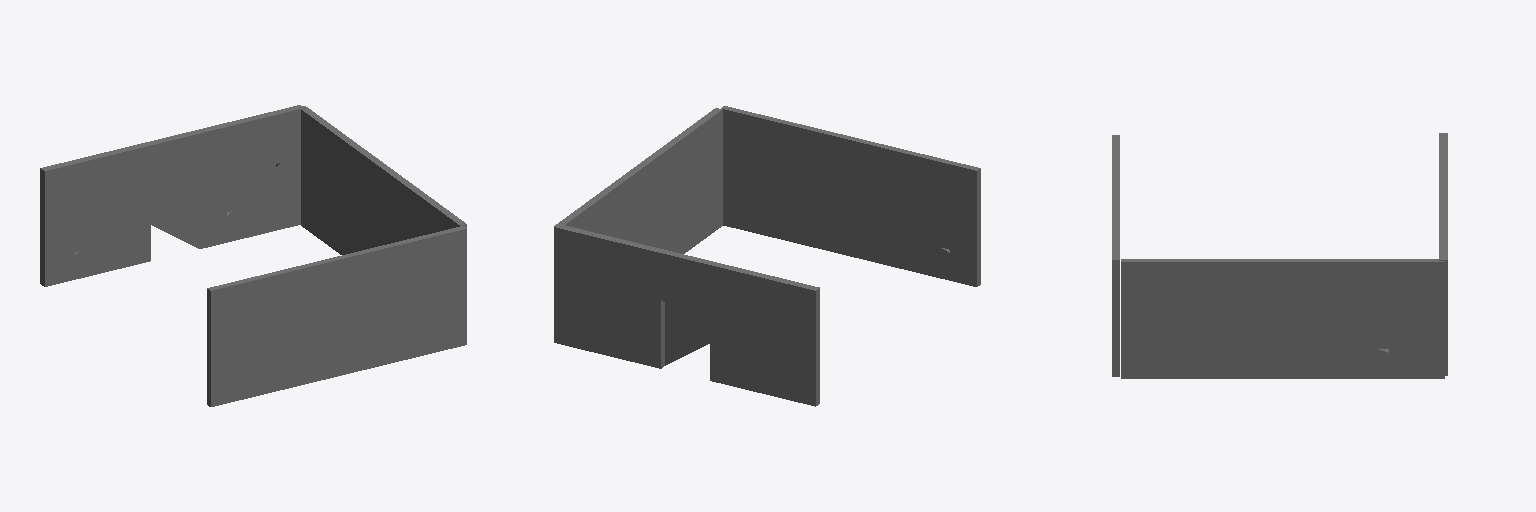
The model's file is paredes.obj.
3 renders of one model, left to right at view 1: azimuth 30°, elevation 25°; view 2: azimuth 150°, elevation 25°; view 3: azimuth 270°, elevation 25°, orthographic.
Visible parts, largest first — view 1: cafeteria:pCube53; view 2: cafeteria:pCube53; view 3: cafeteria:pCube53.
Boxes of the visible parts, x1=… form: cafeteria:pCube53: x1=40, y1=105, x2=466, y2=406; cafeteria:pCube53: x1=554, y1=106, x2=980, y2=406; cafeteria:pCube53: x1=1112, y1=133, x2=1447, y2=378.
Bounding box in the file's own units: 209 × 88.81 × 230.